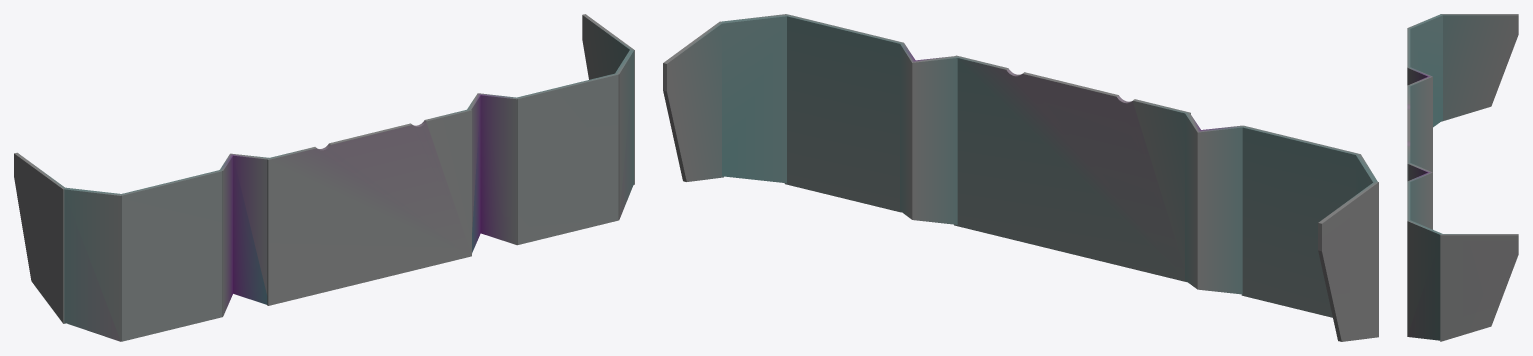
The picture shows the model from 3 angles, left to right: view 1: azimuth 30°, elevation 25°; view 2: azimuth 150°, elevation 25°; view 3: azimuth 270°, elevation 25°; orthographic projection. The views are drawn at different scales.
Visible parts, largest first — view 1: middle, outer.001, outer, bend.001, offset.001, offset, wing.001, bend, wing; view 2: middle, outer, outer.001, bend, offset.001, offset, wing.001, wing; view 3: wing, wing.001, bend, offset.001, bend.001, offset, middle, outer.001, outer.
Boxes of the visible parts, box(x1,y1,x2,y2) form: middle: box(267, 109, 471, 305); outer.001: box(120, 170, 222, 341); outer: box(517, 73, 618, 244); bend.001: box(64, 187, 121, 341); offset.001: box(220, 153, 269, 316); offset: box(467, 93, 517, 252); wing.001: box(14, 152, 66, 323); bend: box(615, 50, 633, 219); wing: box(582, 14, 634, 184); middle: box(954, 55, 1190, 281); outer: box(784, 14, 903, 212); outer.001: box(1241, 125, 1359, 317); bend: box(721, 14, 786, 183); offset.001: box(1185, 112, 1243, 294); offset: box(900, 42, 957, 224); wing.001: box(1318, 181, 1378, 341); wing: box(663, 21, 723, 181); wing: box(1440, 234, 1518, 341); wing.001: box(1440, 14, 1518, 121); bend: box(1407, 220, 1442, 340); offset.001: box(1407, 67, 1432, 172); bend.001: box(1407, 14, 1442, 127); offset: box(1407, 163, 1432, 229); middle: box(1407, 85, 1410, 181); outer.001: box(1407, 28, 1410, 67); outer: box(1407, 181, 1410, 220).
Size of the model in its own units: 1.2 by 0.293 by 0.2559.
